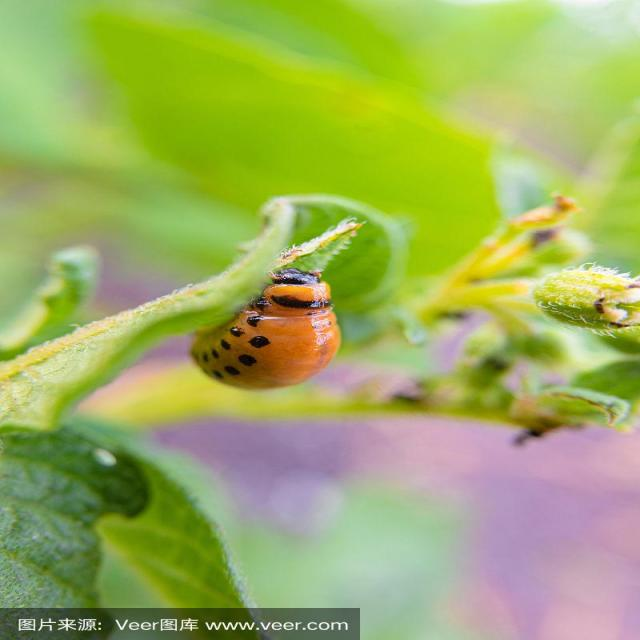ShuCaiHuaBanChong-Larva-: (180, 258, 356, 400)
